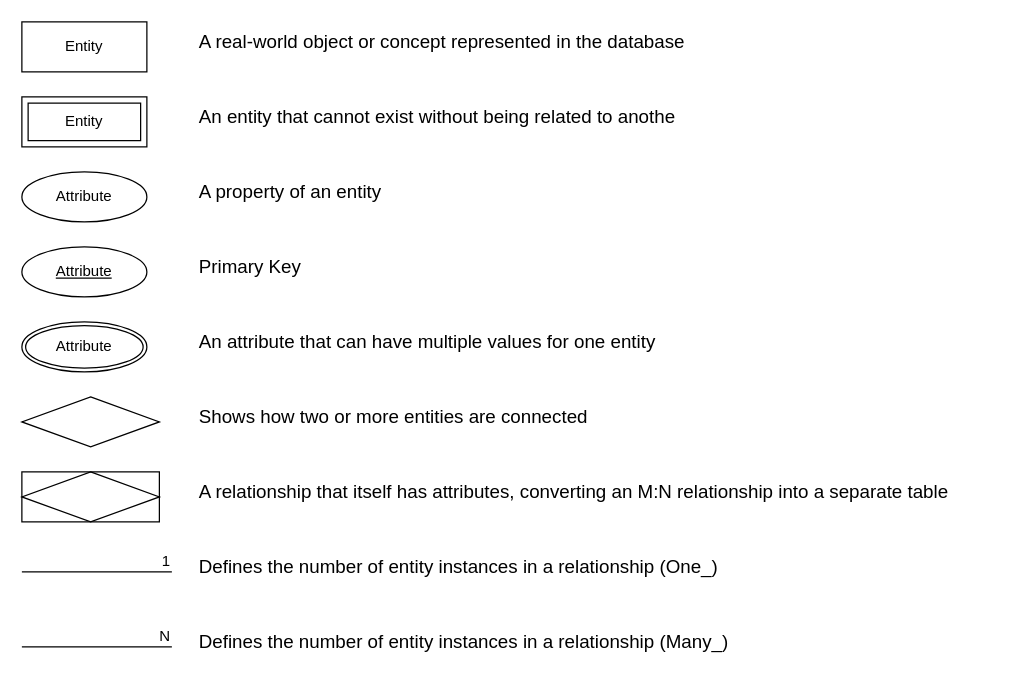
Some shapes in this 1031 by 681 pixel diagram are drawn without their labels. The centre of each missing label's shape, as x and y in pixels:
"Associative Entity" goes at [90,496].
"Relationship" goes at [90,421].
